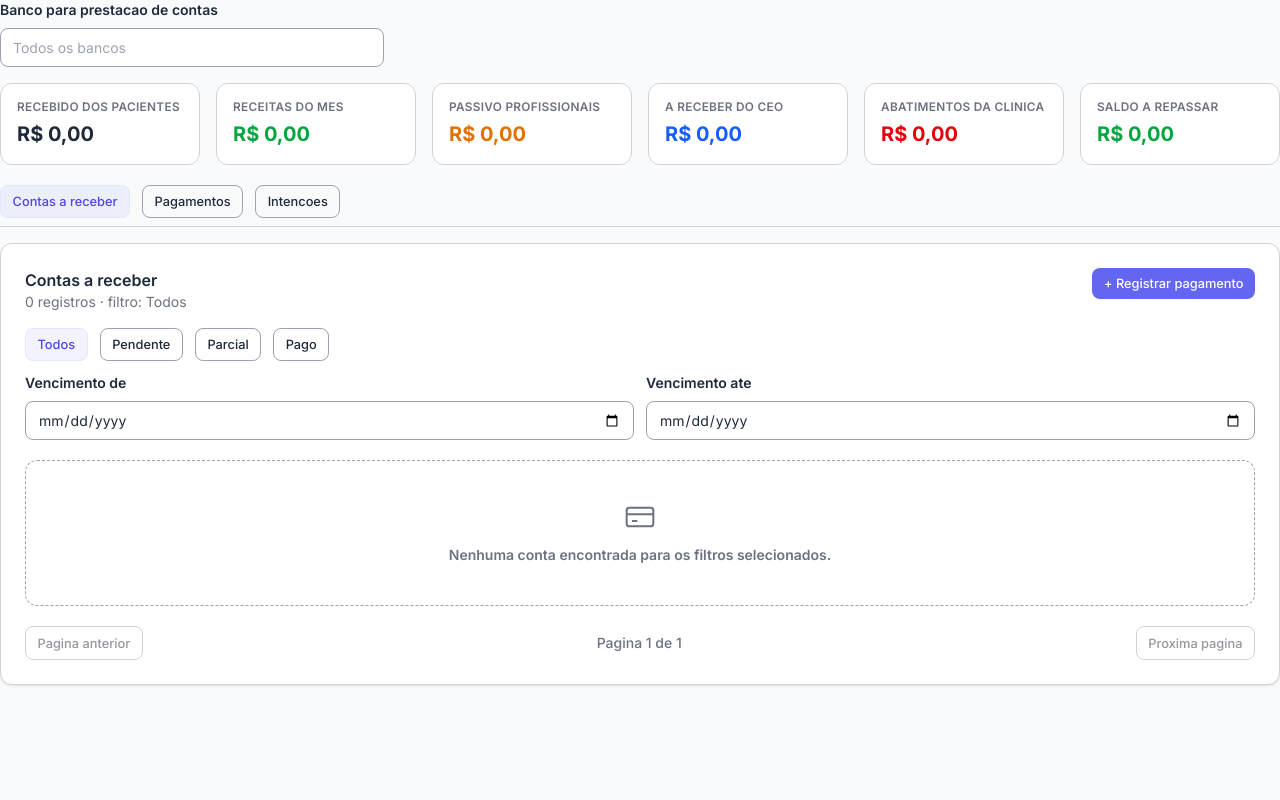
Test: registra um pagamento para paciente sem recebível ou consulta
Click the button "+ Registrar pagamento" at (1174, 284), box [1092,268,1255,299]
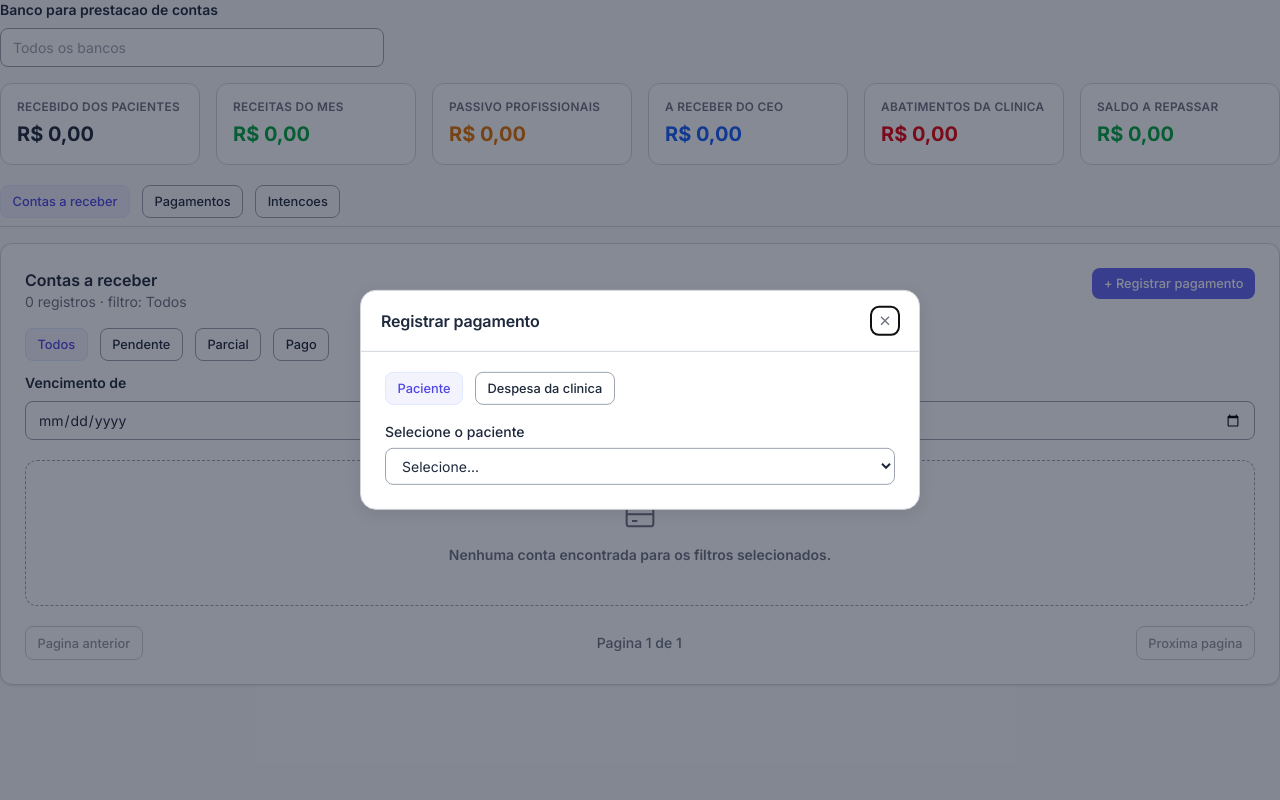
Select "Paciente avulso" in the dropdown labelled "Selecione o paciente" at (640, 467), box [385,448,895,485]
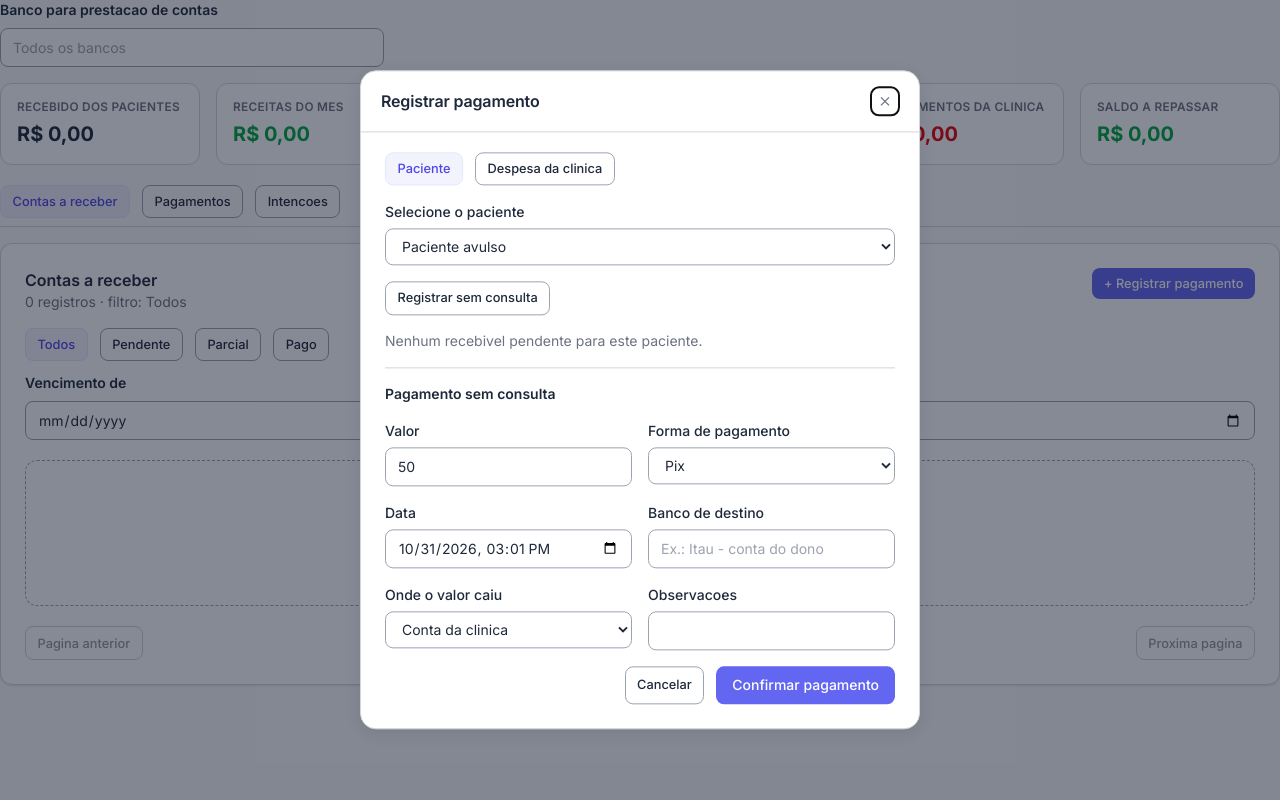
Now the text "Pagamento sem consulta" is shown, box [385,385,556,402]
Replace the text in the number field labelled "Valor" with "75" at (508, 466), box [385,447,632,486]
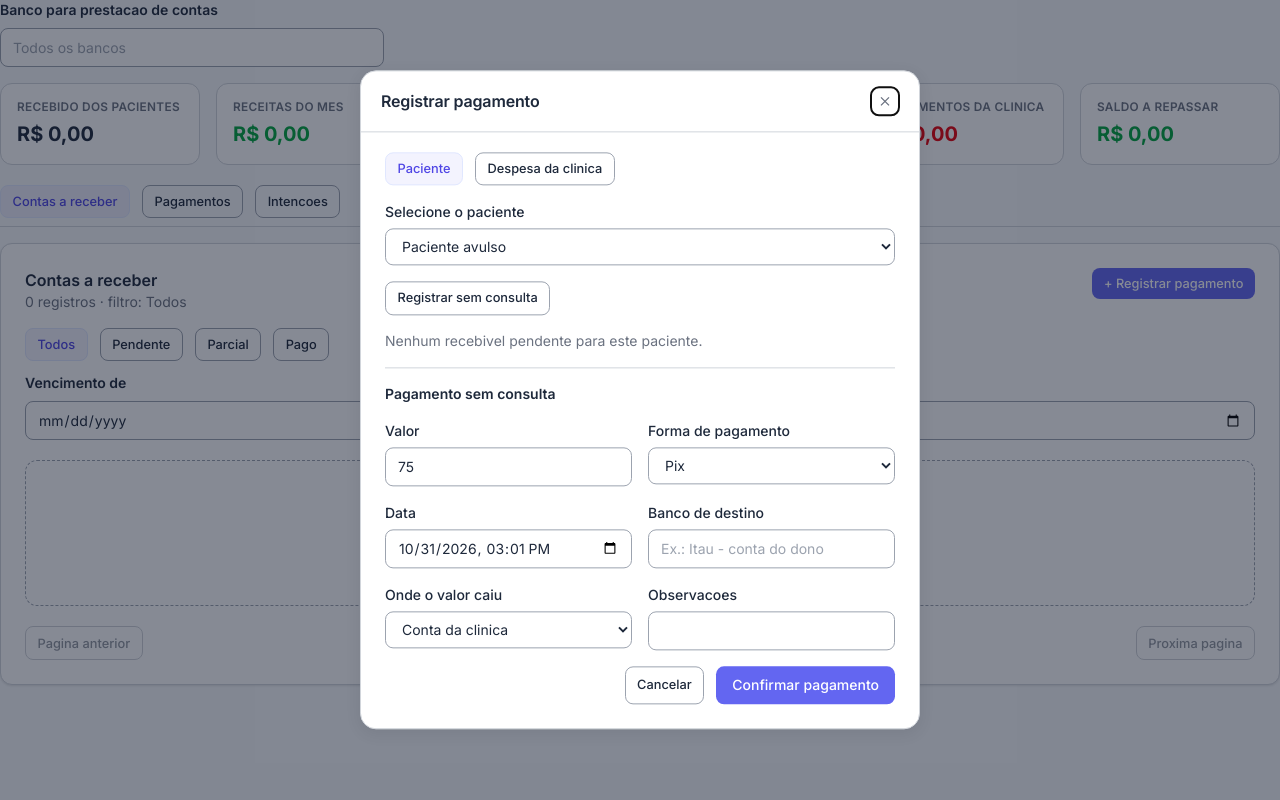
Click the button "Confirmar pagamento" at (806, 685), box [716,666,895,705]
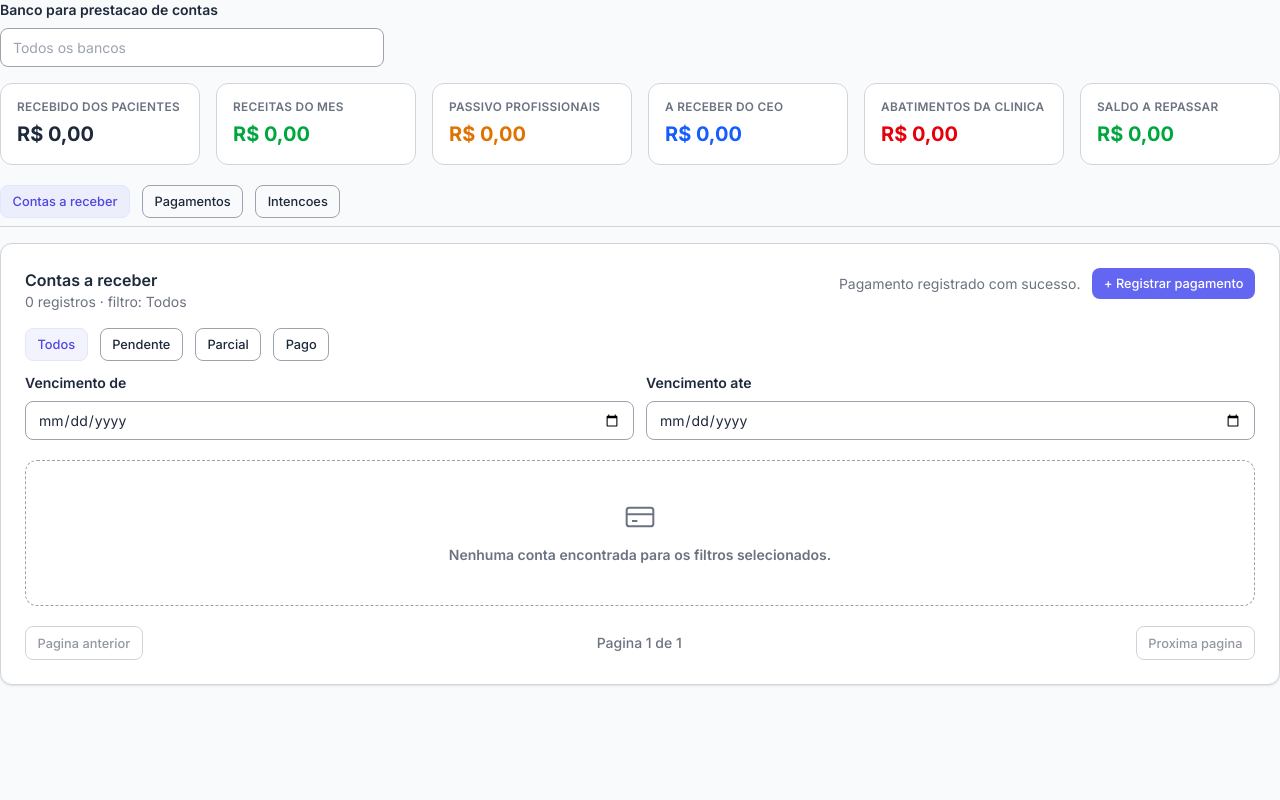
Now the text "Pagamento registrado com sucesso." is shown, box [839,274,1080,294]
